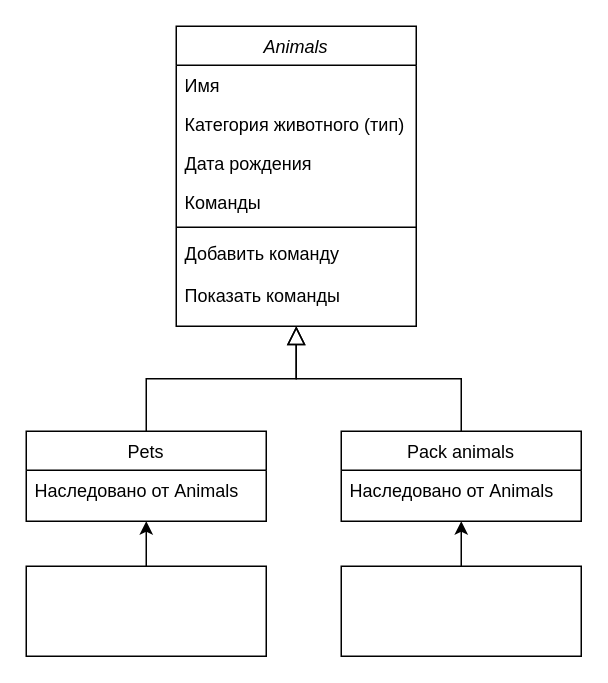
Some shapes in this 608 by 683 pixel diagram are drawn without their labels. Each missing label, with the centre of its shape:
"Лошади Верблюды Ослы" goes at point (460, 610).
"Собаки Кошки Хомяки" goes at point (145, 610).
